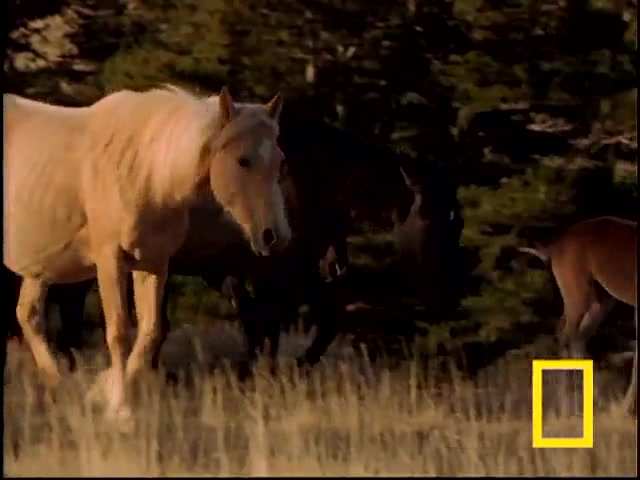horse: (1, 78, 300, 413)
